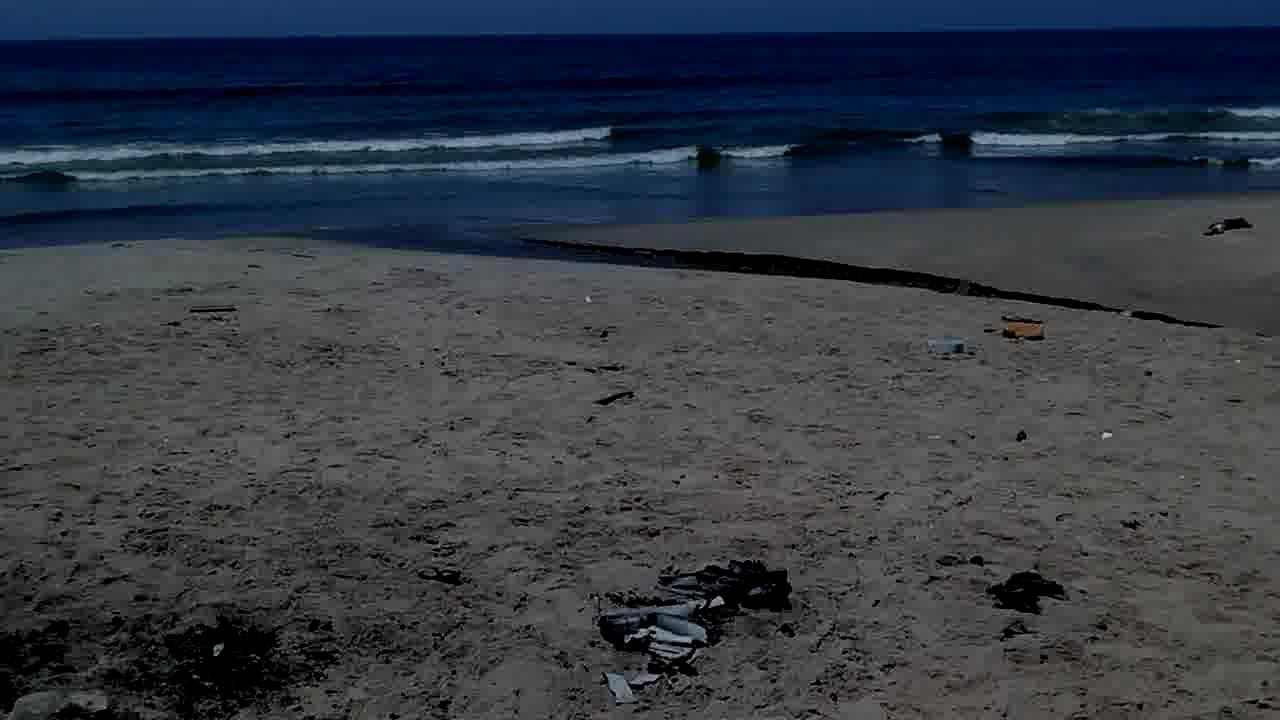large collection of objects: (155, 617, 321, 701)
obj: (594, 556, 794, 698), (976, 573, 1058, 613), (1000, 310, 1044, 344), (922, 337, 974, 359), (1208, 215, 1254, 233), (598, 389, 638, 408), (183, 307, 241, 313)
sand/background: (1, 0, 1279, 249)
